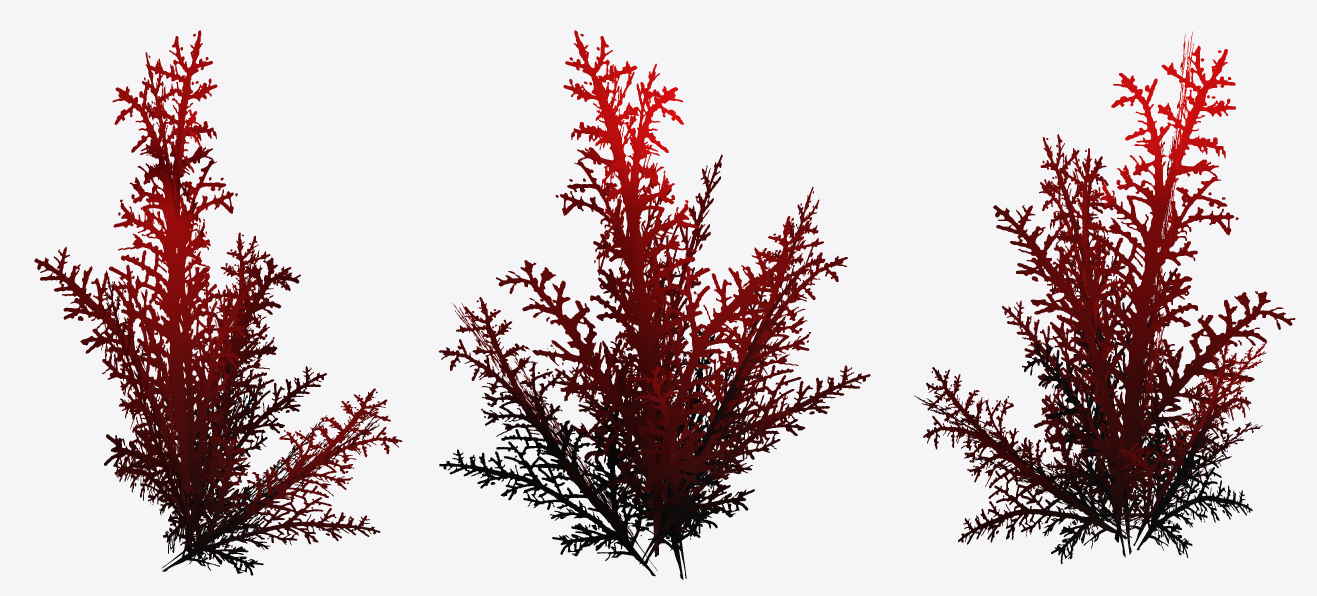
Rendered from weed.fbx.
The picture shows the model from 3 angles, left to right: view 1: azimuth 30°, elevation 25°; view 2: azimuth 150°, elevation 25°; view 3: azimuth 270°, elevation 25°; orthographic projection. The views are drawn at different scales.
Parts seen in each view (by area): view 1: weed_LOD0; view 2: weed_LOD0; view 3: weed_LOD0.
Part boxes in pixels (x1,y1,x2,y2): weed_LOD0: [34, 30, 402, 575]; weed_LOD0: [439, 30, 870, 579]; weed_LOD0: [914, 31, 1295, 564].
Size of what is drawn, in the model's own units: 123 by 209 by 139.
